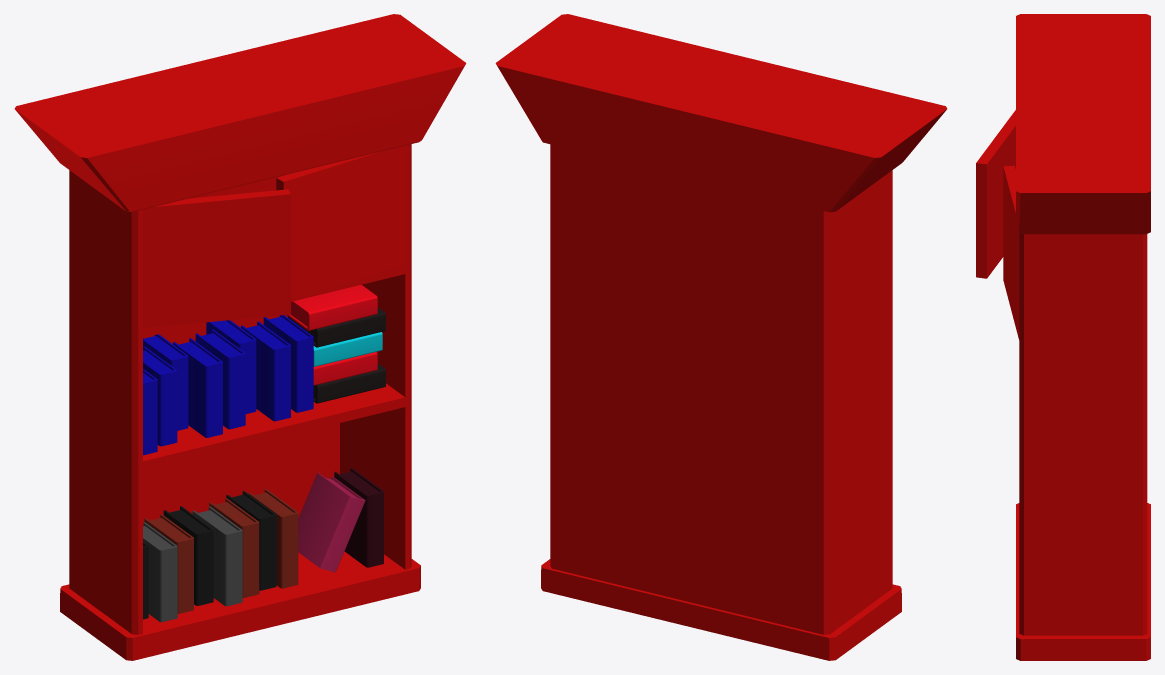
Rendered from bookshelf with books.FBX.
3 renders of one model, left to right at view 1: azimuth 30°, elevation 25°; view 2: azimuth 150°, elevation 25°; view 3: azimuth 270°, elevation 25°, orthographic. The views are drawn at different scales.
Parts seen in each view (by area): view 1: Bookshelf, Book004, Book016, Book013, Book019, Book003, Book010, Book001, Book014, Book017, Book022, Book018 (+11 smaller); view 2: Bookshelf; view 3: Bookshelf.
Part boxes in pixels (x1,y1,x2,y2): Bookshelf: (14, 14, 466, 660); Book004: (298, 472, 365, 572); Book016: (241, 321, 290, 421); Book013: (173, 338, 222, 437); Book019: (192, 506, 242, 606); Book003: (334, 467, 383, 567); Book010: (286, 284, 377, 330); Book001: (143, 522, 177, 622); Book014: (195, 329, 245, 429); Book017: (263, 315, 313, 412); Book022: (248, 488, 298, 588); Book018: (163, 506, 213, 605); Bookshelf: (495, 14, 947, 660); Bookshelf: (976, 14, 1150, 660).
Size of the model in its own units: 2.48 by 3.15 by 1.02.
